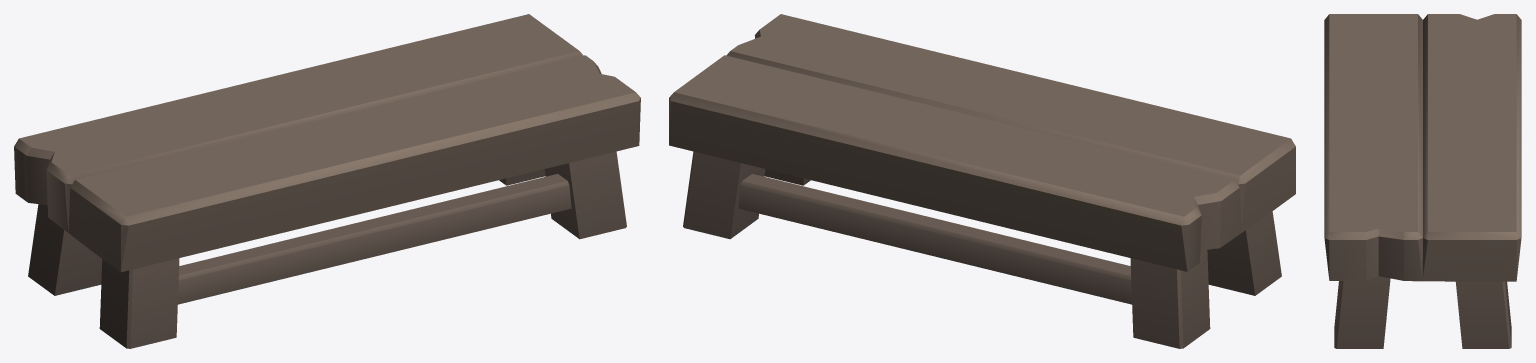
File: Bench.glb
The picture shows the model from 3 angles, left to right: view 1: azimuth 30°, elevation 25°; view 2: azimuth 150°, elevation 25°; view 3: azimuth 270°, elevation 25°; orthographic projection. The views are drawn at different scales.
Visible parts, largest first — view 1: bench; view 2: bench; view 3: bench.
Boxes of the visible parts, x1,y1,x2,y2 form: bench: (14,14,640,348); bench: (669,14,1295,348); bench: (1324,14,1521,348).
Bounding box in the file's own units: 2 × 0.5 × 0.75.
1 material, 1 textured.
